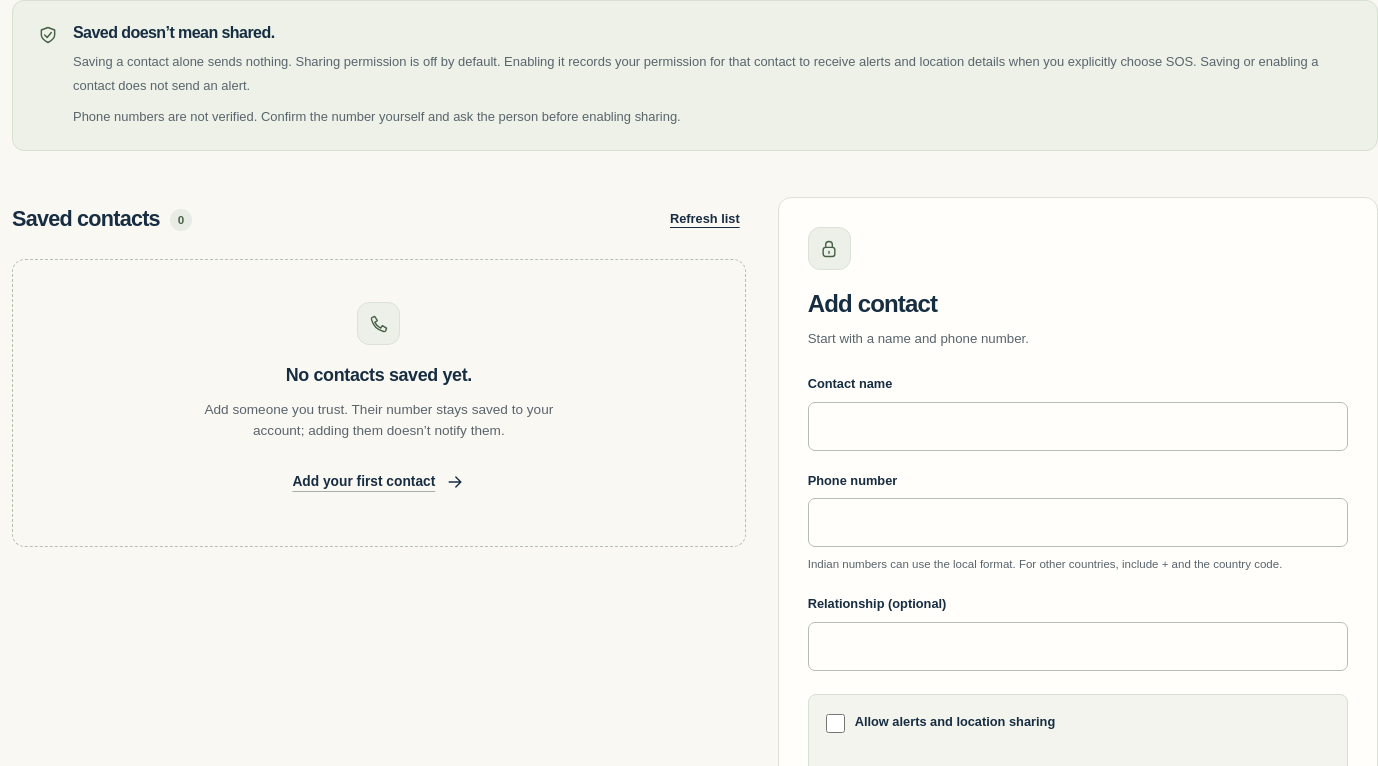
Test: contact creation and validation › rejects invalid form input before posting
The image size is (1378, 766).
Type "Asha" into the field labelled "Contact name" at [1078, 426], box [808,402,1348,451]
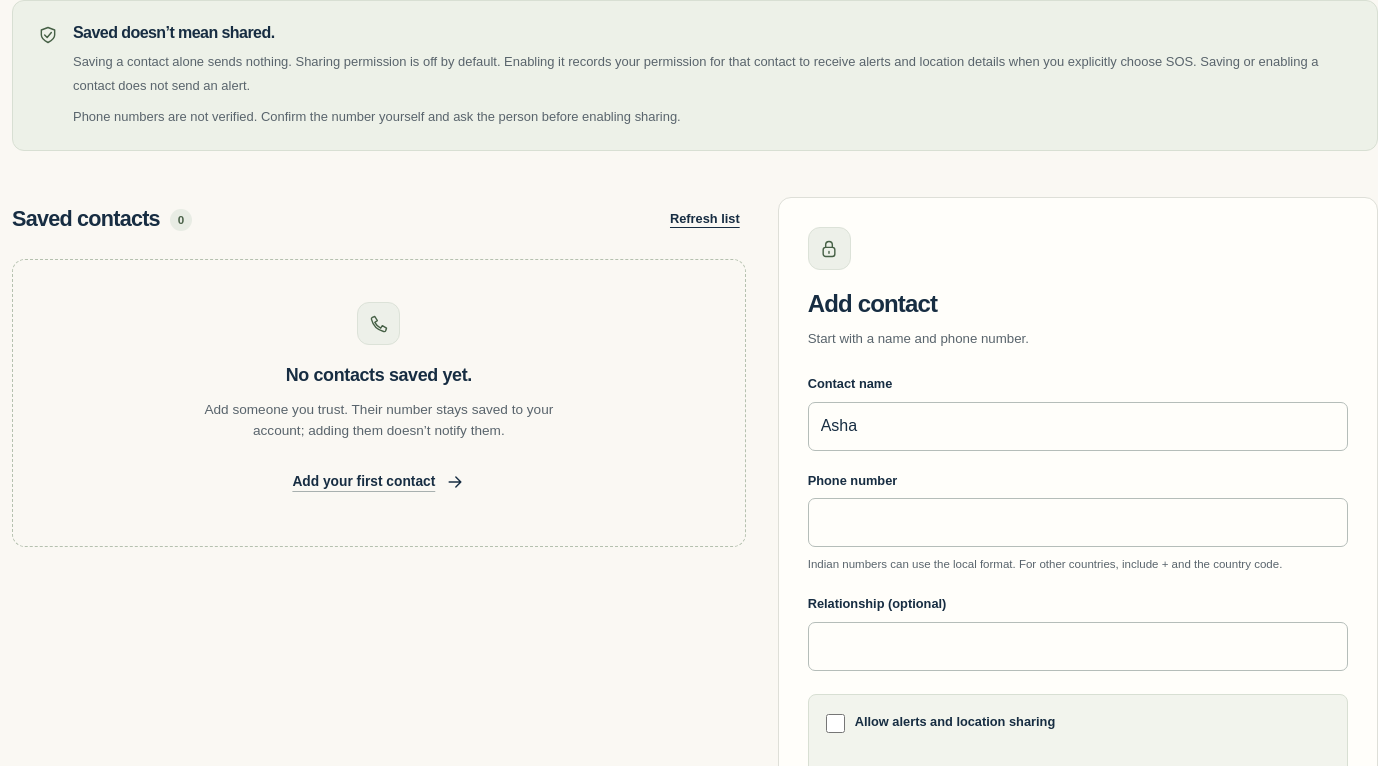
Type "123" into the field labelled "Phone number" at [1078, 523], box [808,498,1348,547]
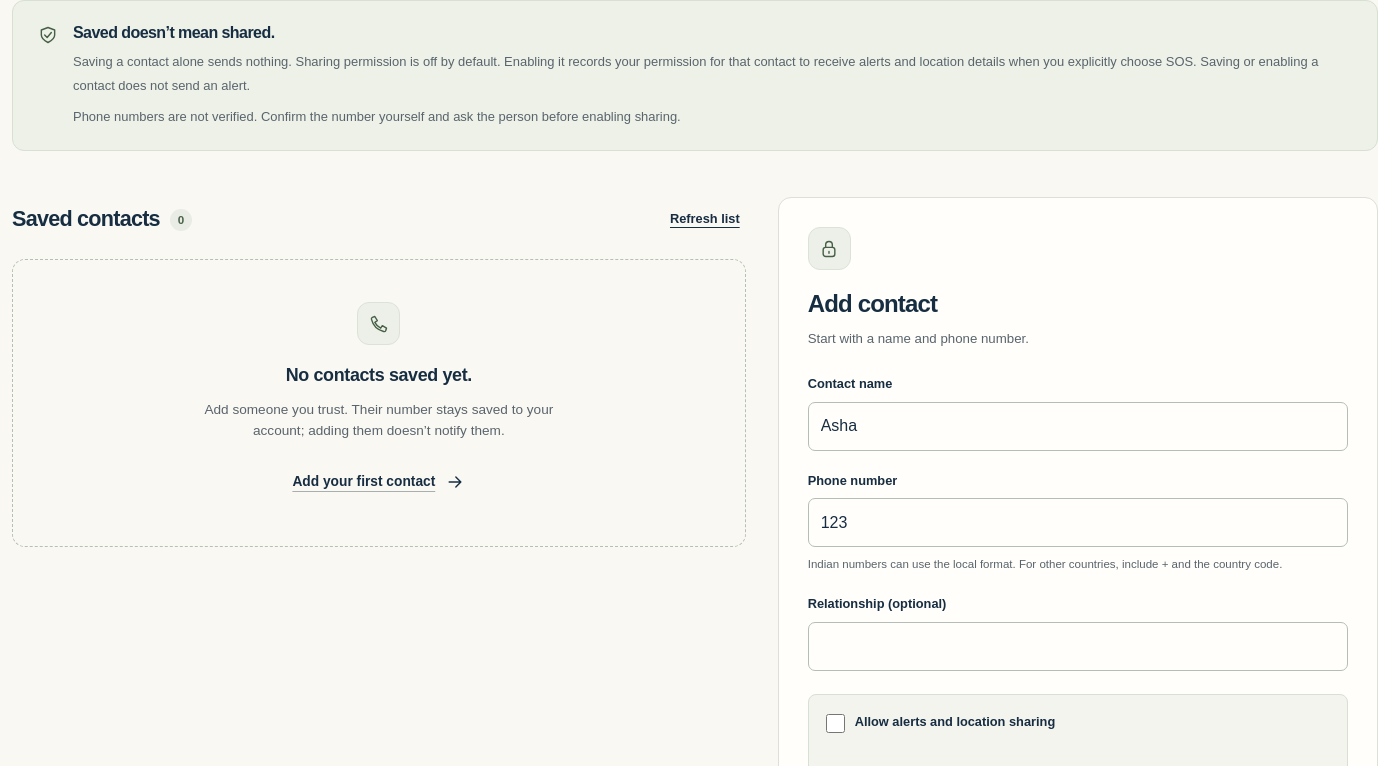
Type "Friend" into the field labelled "Relationship (optional)" at [1078, 646], box [808,622,1348,671]
(page scrolled)
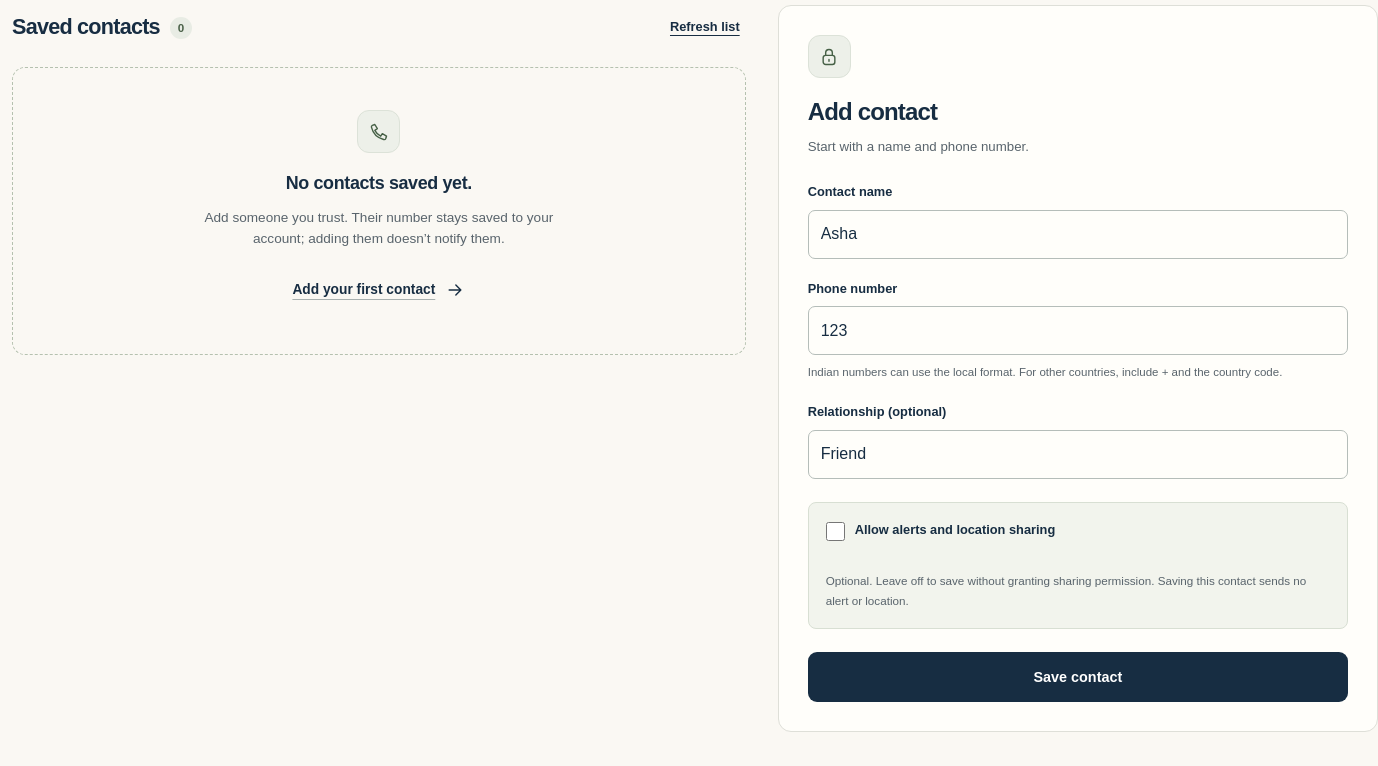
Submit the form named "Add contact", box [808,182,1348,702]
(page scrolled)
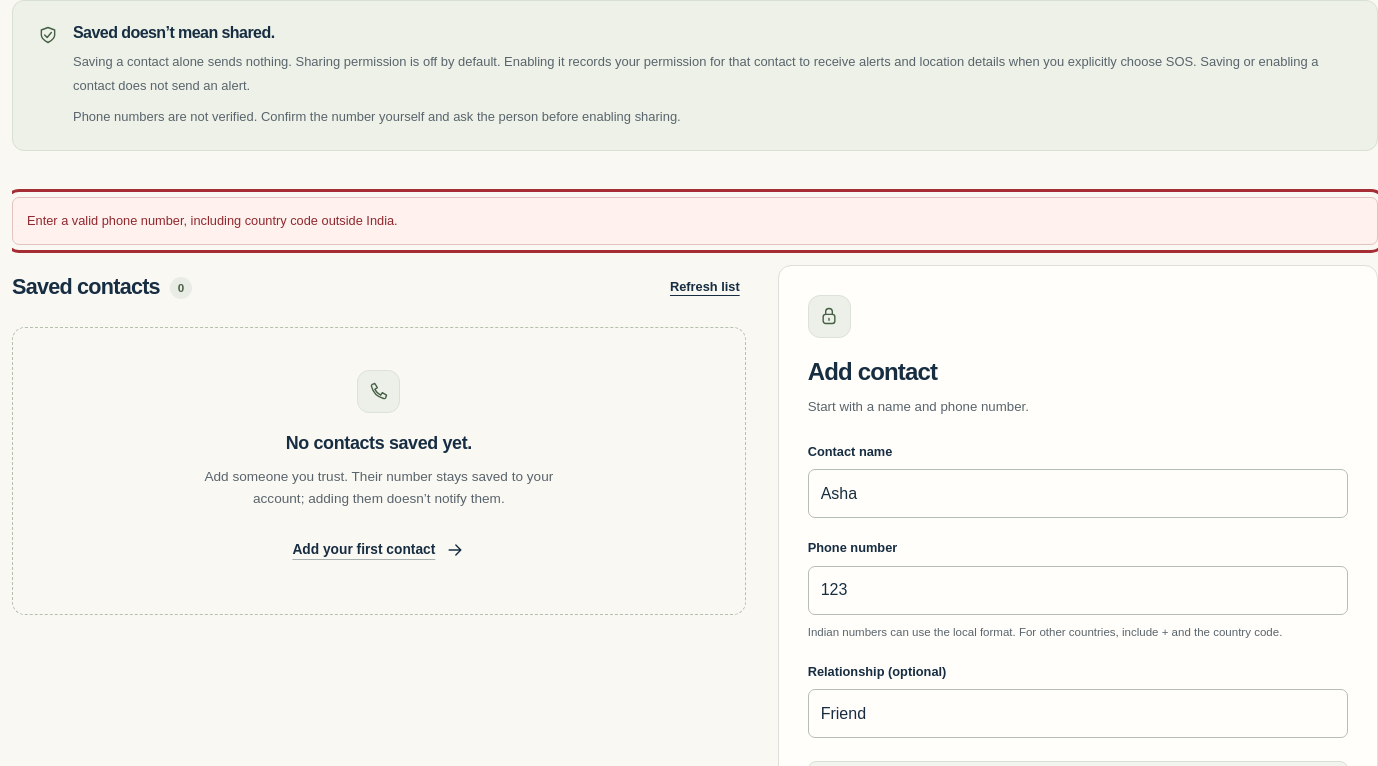
Now the message "Enter a valid phone number, including country code outside India." is shown, box [12,197,1377,245]
